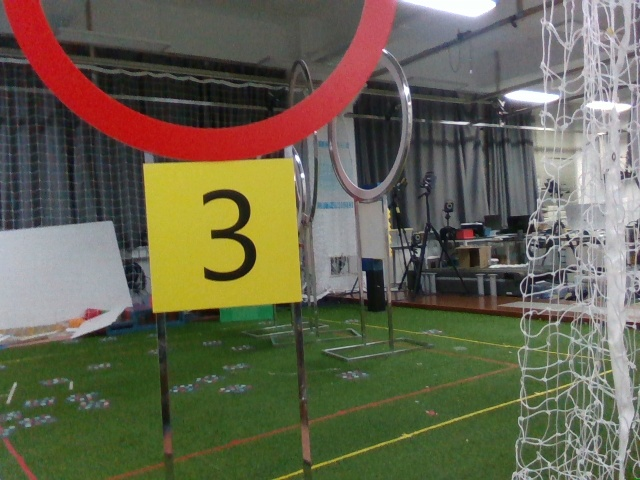target: (145, 168, 295, 294)
